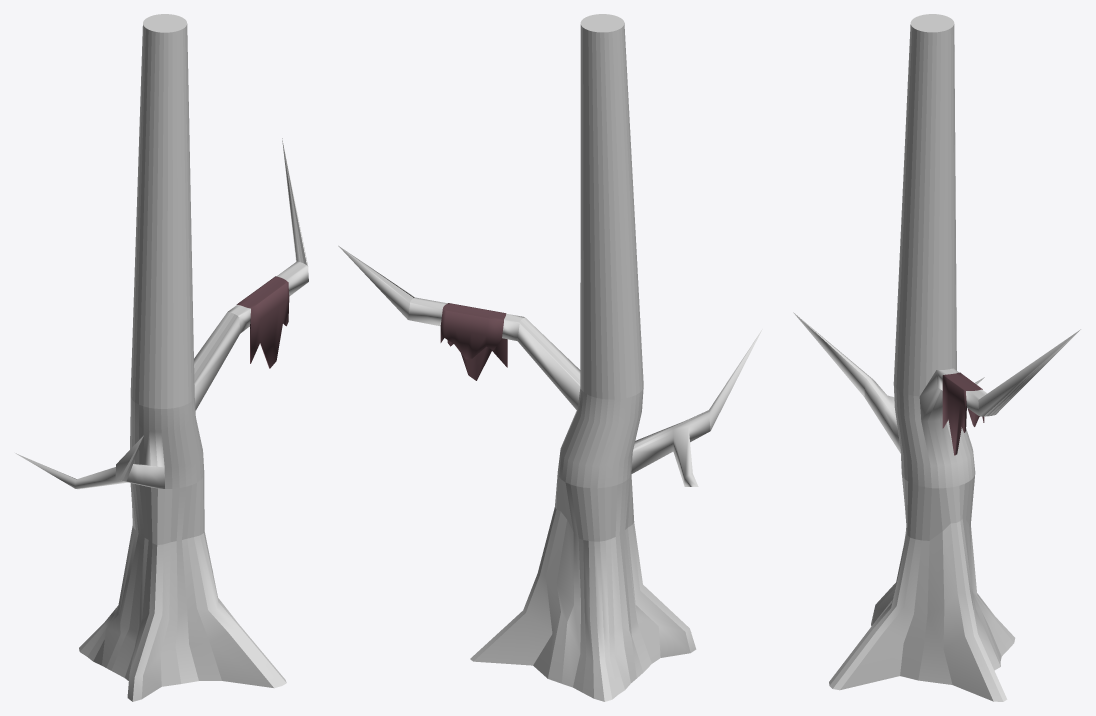
The model's file is tree_s3.fbx.
3 views of the same model, side by side, from view 1: azimuth 30°, elevation 25°; view 2: azimuth 150°, elevation 25°; view 3: azimuth 270°, elevation 25° (orthographic).
Visible parts, largest first — view 1: Cylinder.047; view 2: Cylinder.047; view 3: Cylinder.047.
Part boxes in pixels (x1,y1,x2,y2): Cylinder.047: (15, 14, 308, 701); Cylinder.047: (338, 14, 762, 701); Cylinder.047: (793, 14, 1080, 701).
Size of the model in its own units: 2262 by 4403 by 1816.
